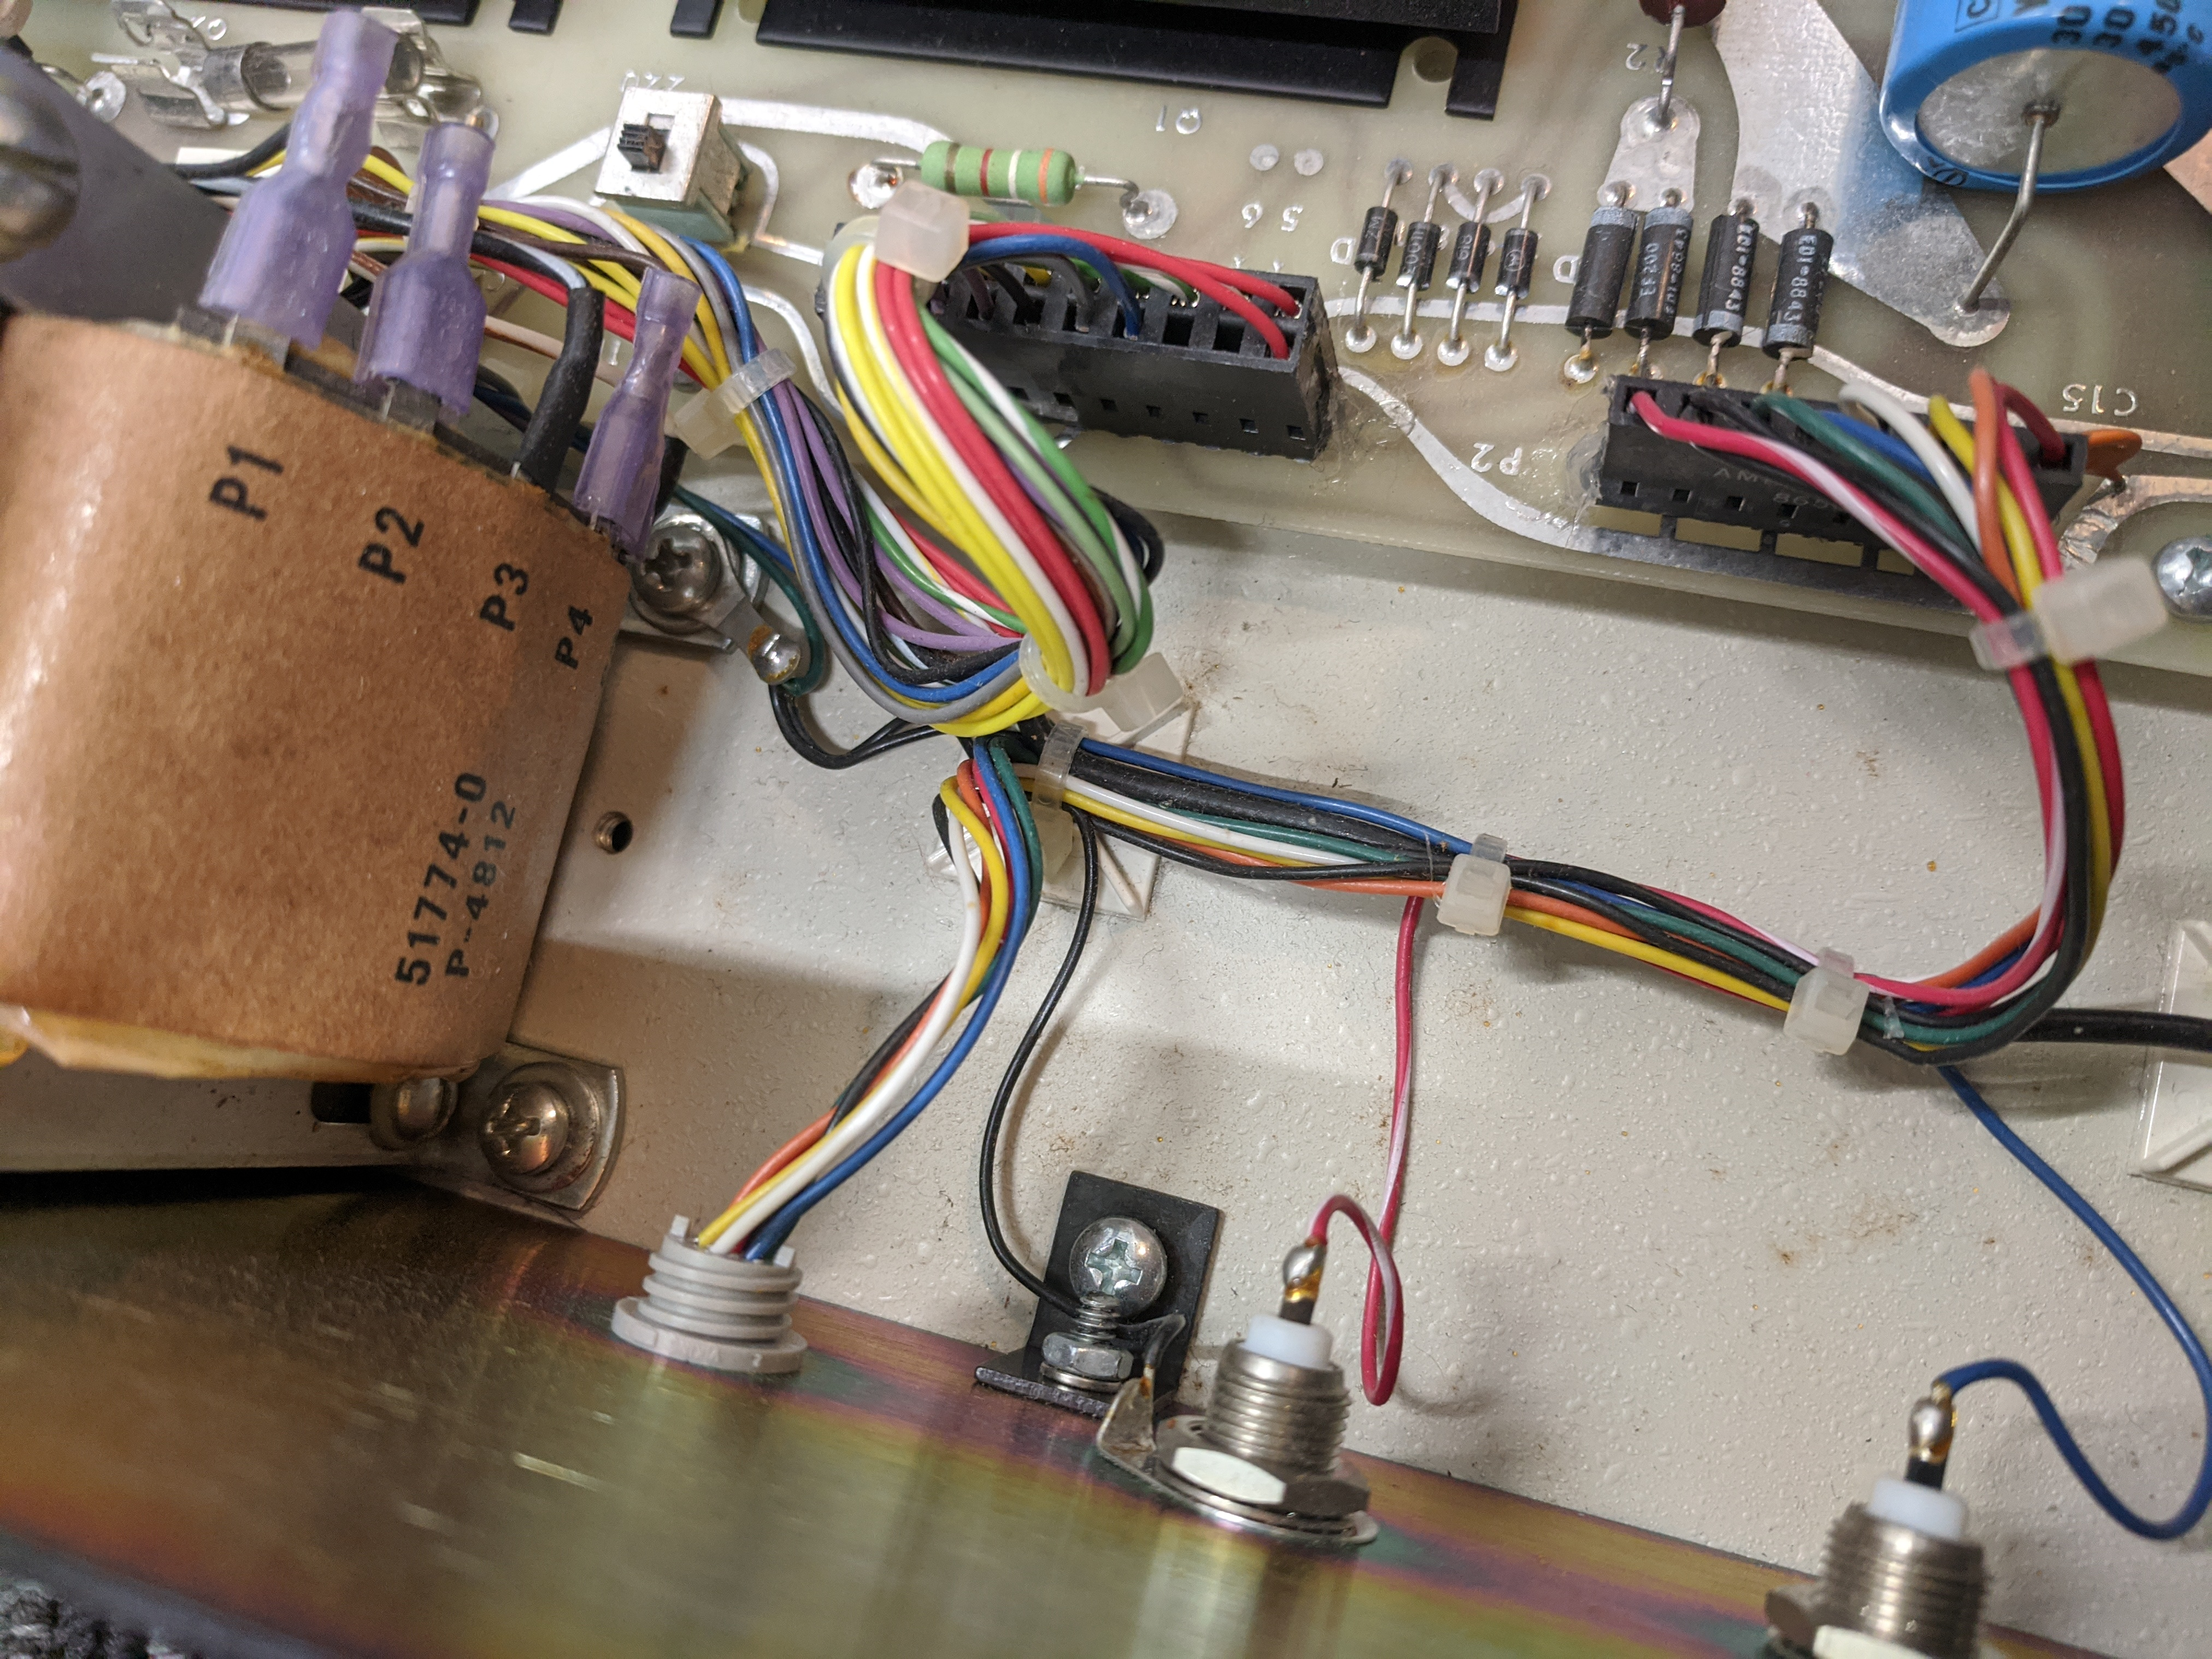cross_recessed_screw: (1061, 1209, 1169, 1310), (627, 514, 728, 606), (479, 1077, 563, 1175), (2151, 528, 2210, 615)
